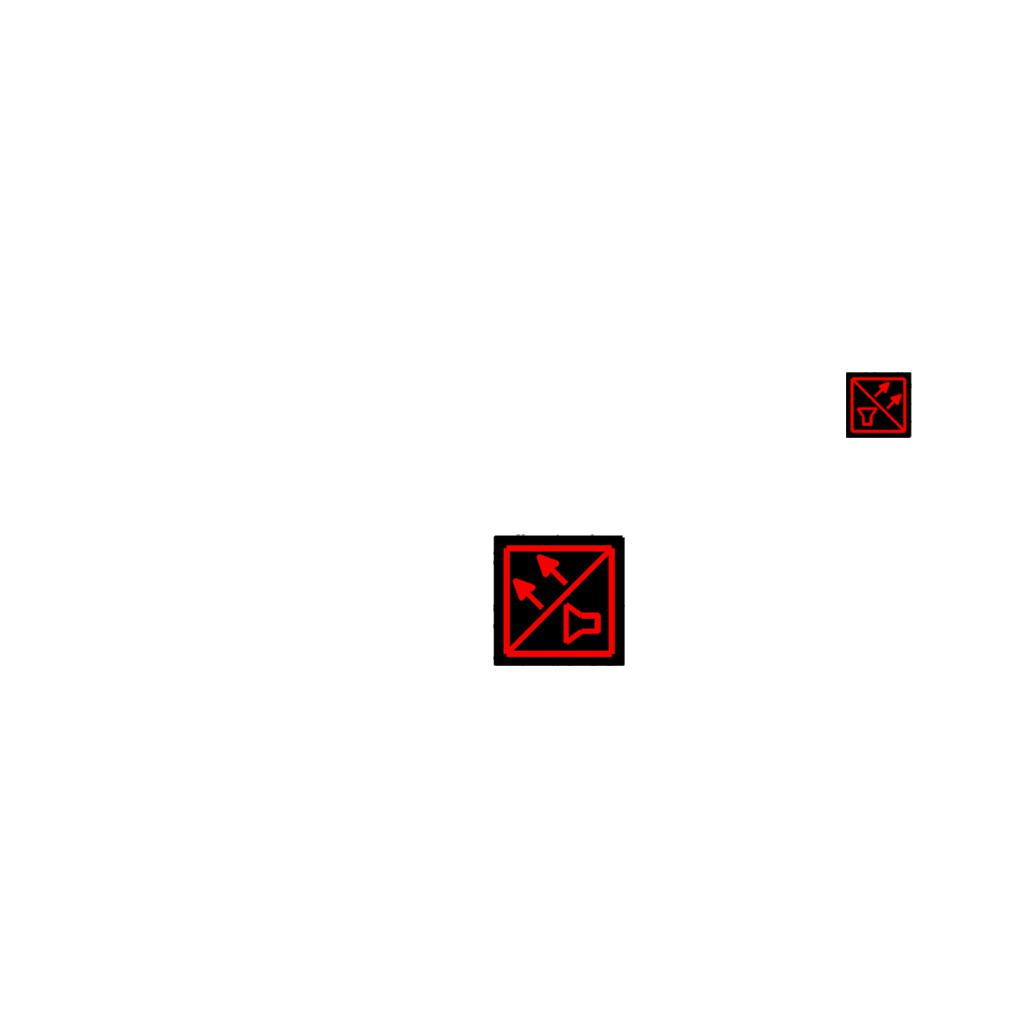OKW_Multisensormelder_(Kombination_optischer_Rauch-Kahlenmonoxid_Waerme-Melder): (493, 534, 625, 666), (846, 372, 912, 438)
